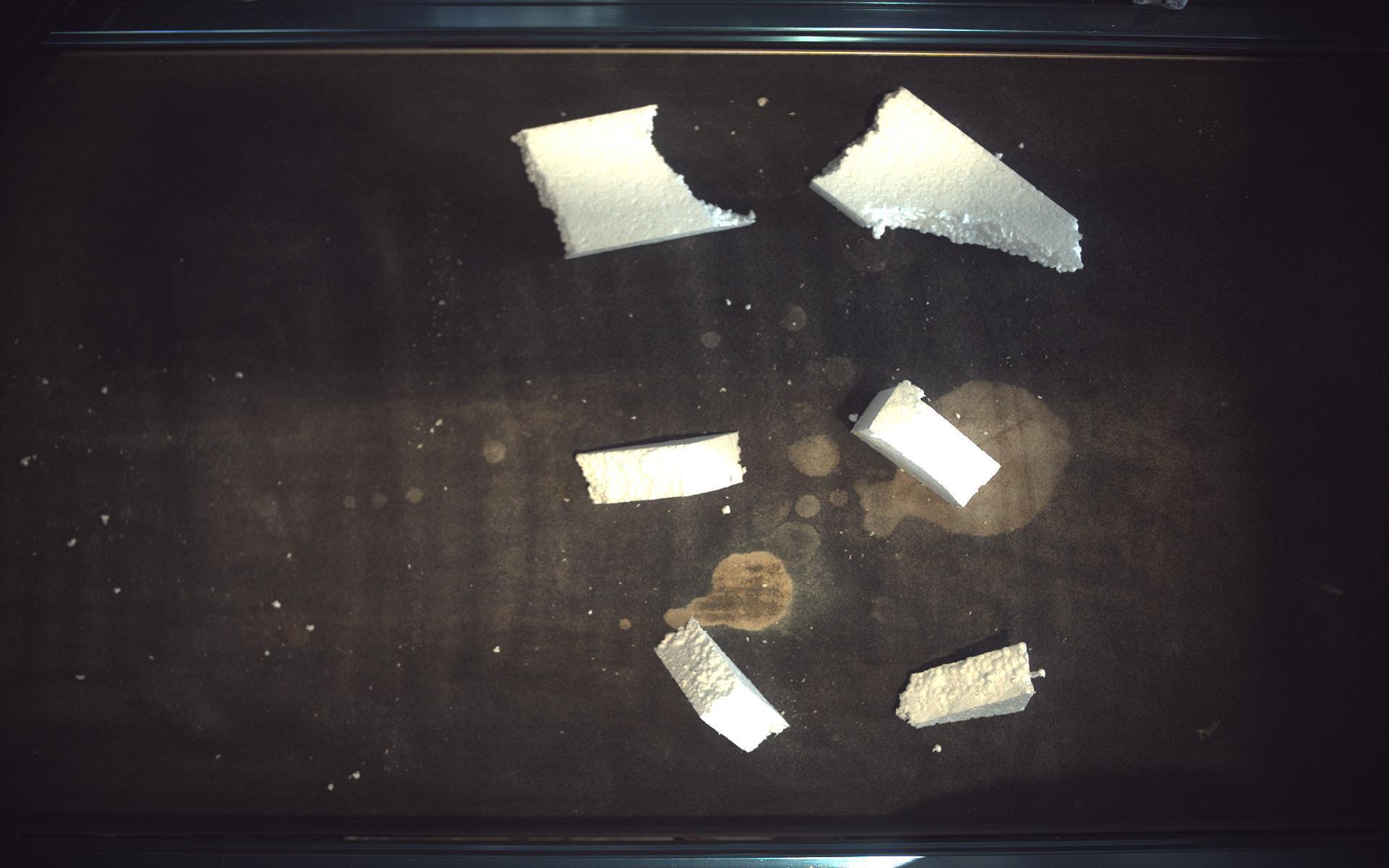foam: (812, 87, 1085, 271), (512, 103, 756, 258), (853, 380, 1002, 507), (656, 618, 790, 753), (576, 433, 747, 504), (898, 643, 1037, 729)
